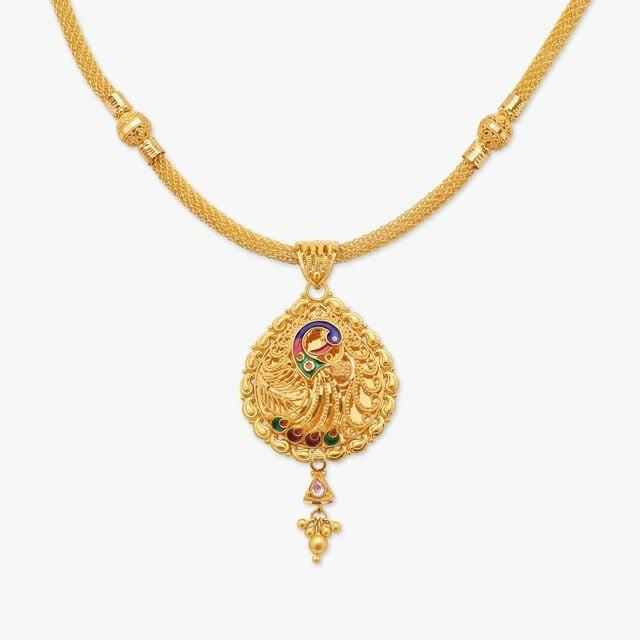missing gem: (312, 478, 324, 495), (306, 362, 312, 369), (297, 354, 303, 360)
